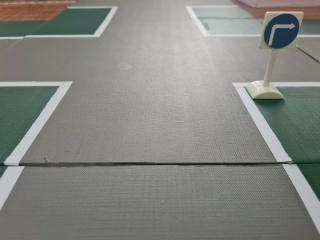right: (257, 4, 301, 53)
